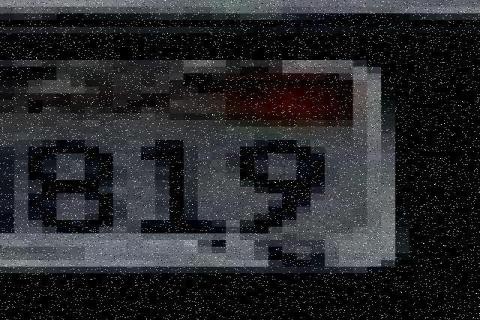LicensePlate: (8, 65, 426, 287)
